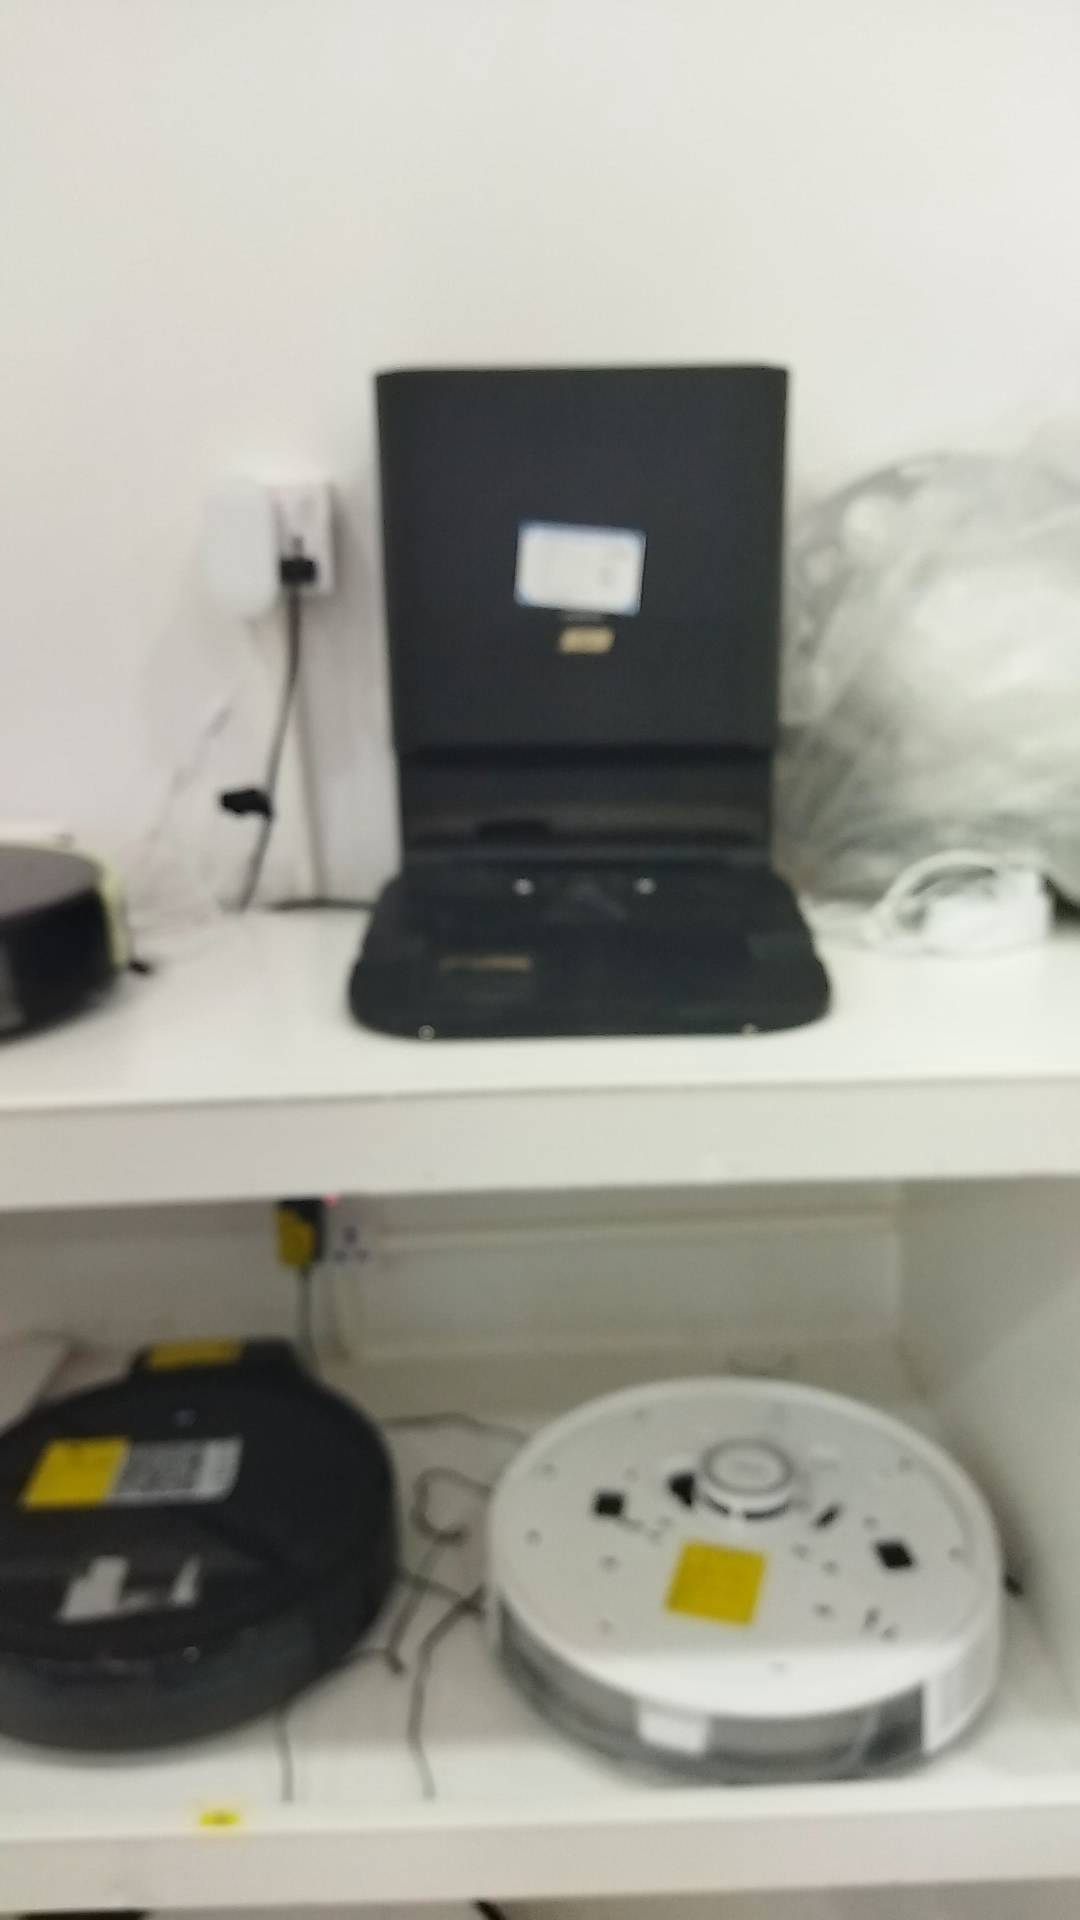dust collecting barrel: (348, 365, 829, 1036)
